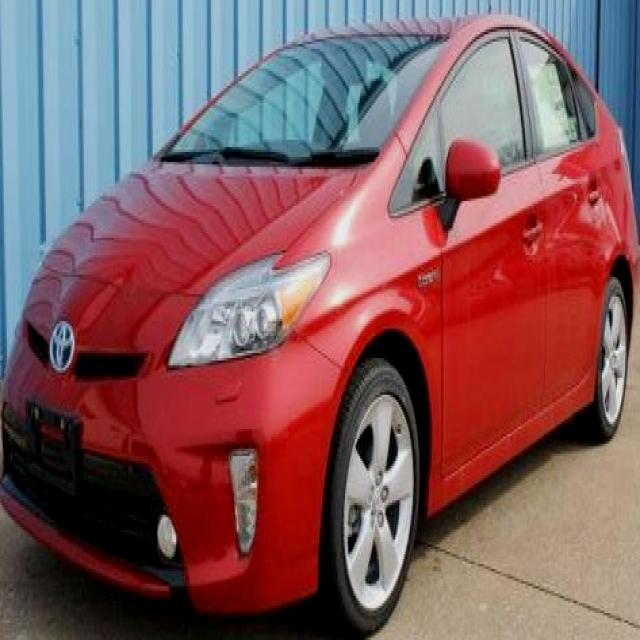red: (1, 12, 634, 602)
